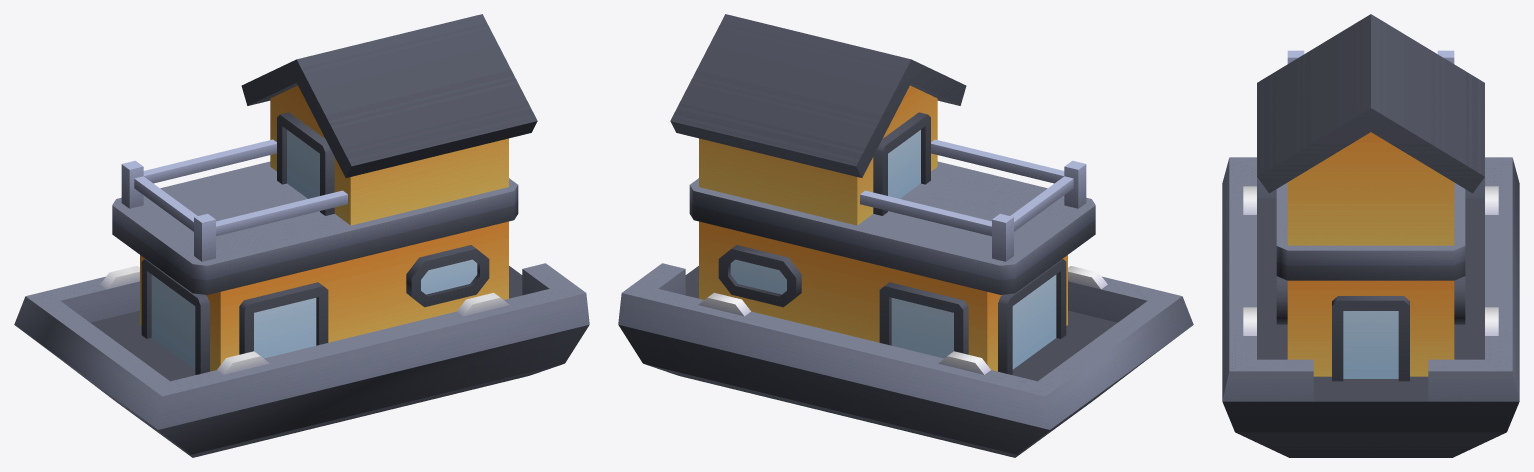
Rendered from fob_argus.glb.
3 renders of one model, left to right at view 1: azimuth 30°, elevation 25°; view 2: azimuth 150°, elevation 25°; view 3: azimuth 270°, elevation 25°, orthographic. The views are drawn at different scales.
Parts seen in each view (by area): view 1: boat-house-d; view 2: boat-house-d; view 3: boat-house-d.
Part boxes in pixels (left/top/right/bottom): boat-house-d: left=14, top=14, right=589, bottom=457; boat-house-d: left=618, top=14, right=1193, bottom=457; boat-house-d: left=1222, top=14, right=1519, bottom=457.
Bounding box in the file's own units: 18 × 13.33 × 10.38.
1 material, 1 textured.
